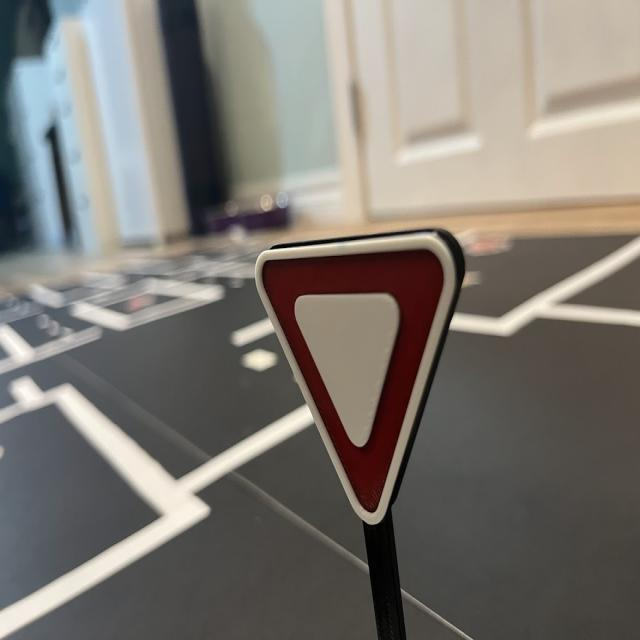sign_yield: (256, 232, 468, 531)
